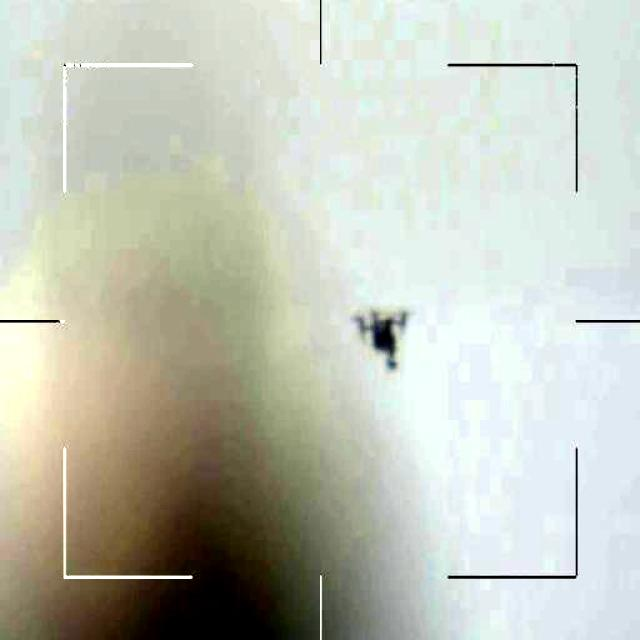bird: (351, 292, 415, 371)
